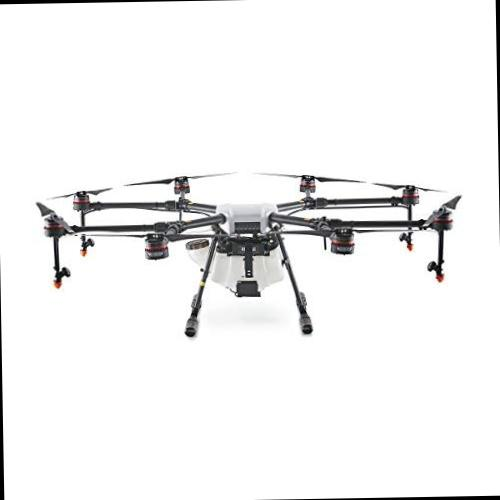drone: (24, 157, 462, 335)
